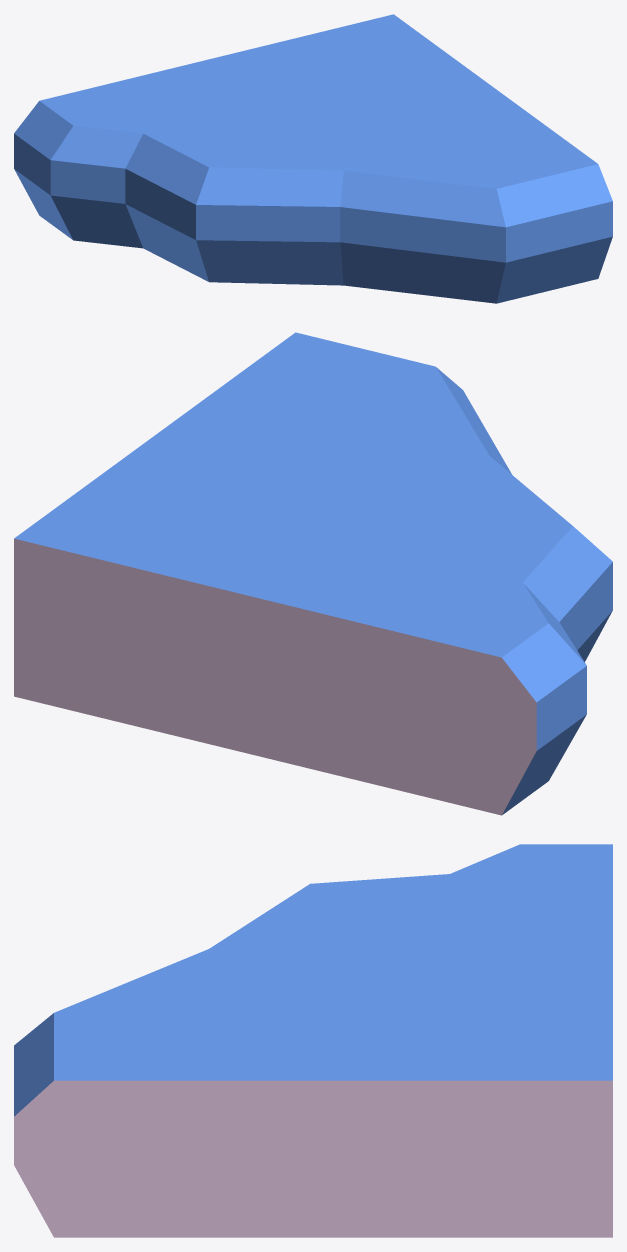
The model's file is Iceberg_Curve_Outer_2x2_1.glb.
3 renders of one model, top to bottom at view 1: azimuth 30°, elevation 25°; view 2: azimuth 150°, elevation 25°; view 3: azimuth 270°, elevation 25°, orthographic. The views are drawn at different scales.
Parts seen in each view (by area): view 1: Iceberg_Curve_Outer_2x2_1; view 2: Iceberg_Curve_Outer_2x2_1; view 3: Iceberg_Curve_Outer_2x2_1.
Boxes of the visible parts, x1,y1,x2,y2 form: Iceberg_Curve_Outer_2x2_1: (14,14,612,303); Iceberg_Curve_Outer_2x2_1: (14,332,612,815); Iceberg_Curve_Outer_2x2_1: (14,844,612,1237).
Size of what is drawn, in the model's own units: 141 by 40.63 by 141.
